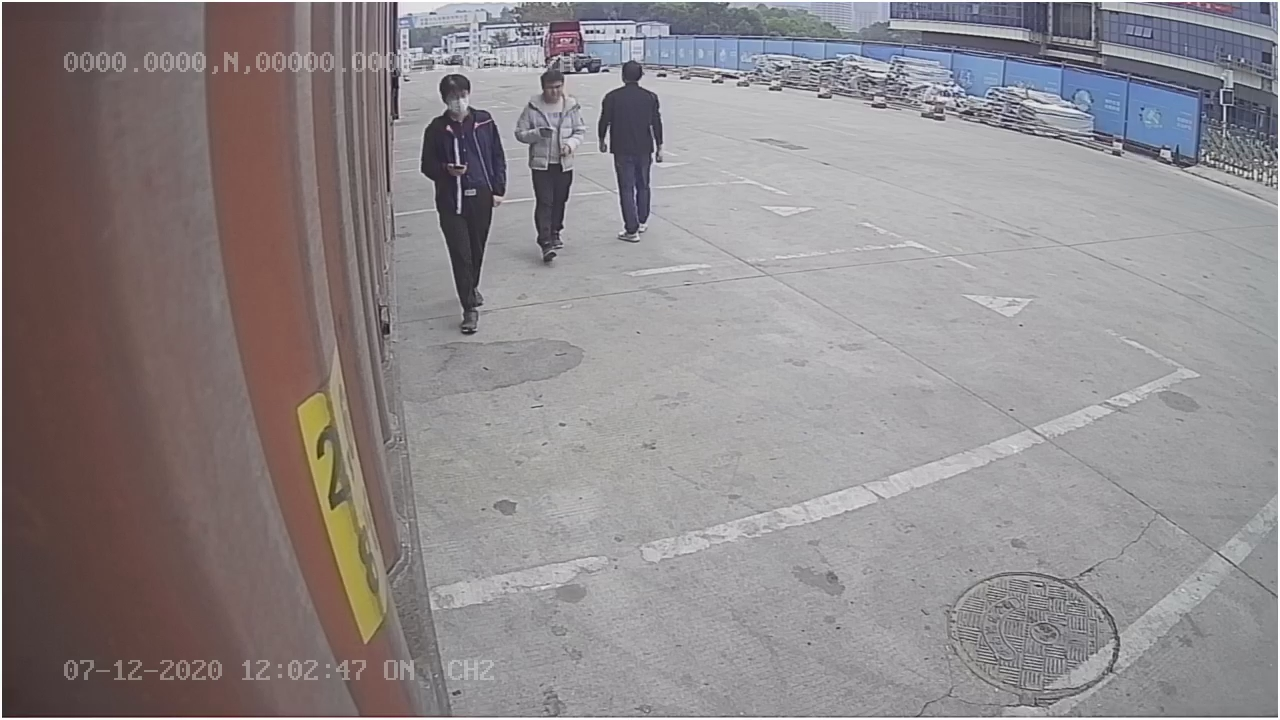person: (416, 71, 508, 337)
